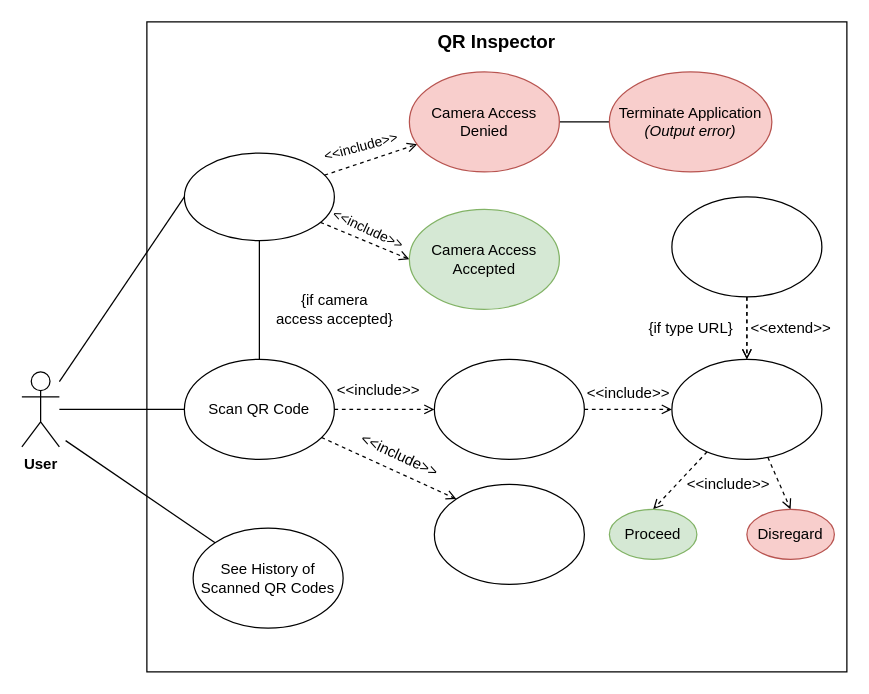
The diagram is 869 pixels wide and 694 high, and some of its shapes have lost their labels. The centre of each missing label's shape, as x and y in pixels:
Analyse the content's legitimacy: the point at 746,408
Export decoded QR code data: the point at 508,533
Read decoded QR code data: the point at 508,408
Respond to Camera Access Request: the point at 258,196
Virus/malware scan output: the point at 746,246
